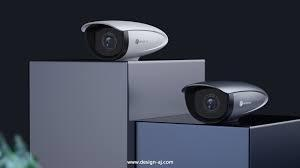tutu: (180, 80, 270, 121), (80, 20, 169, 61)
